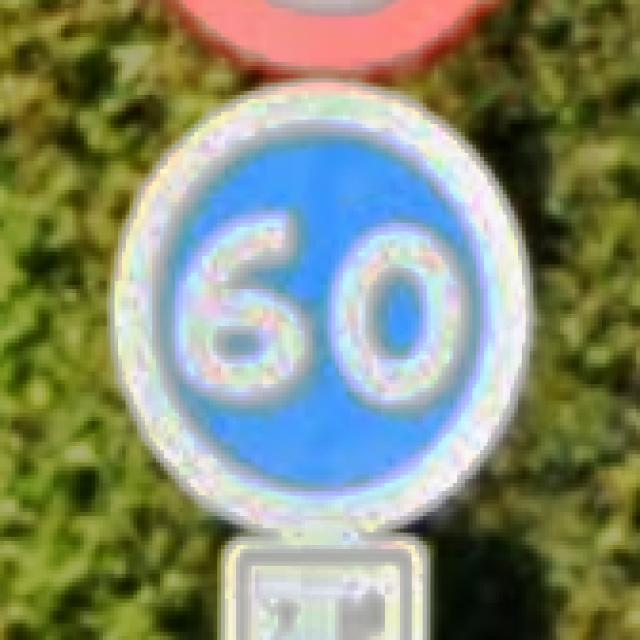min60: (107, 74, 533, 533)
